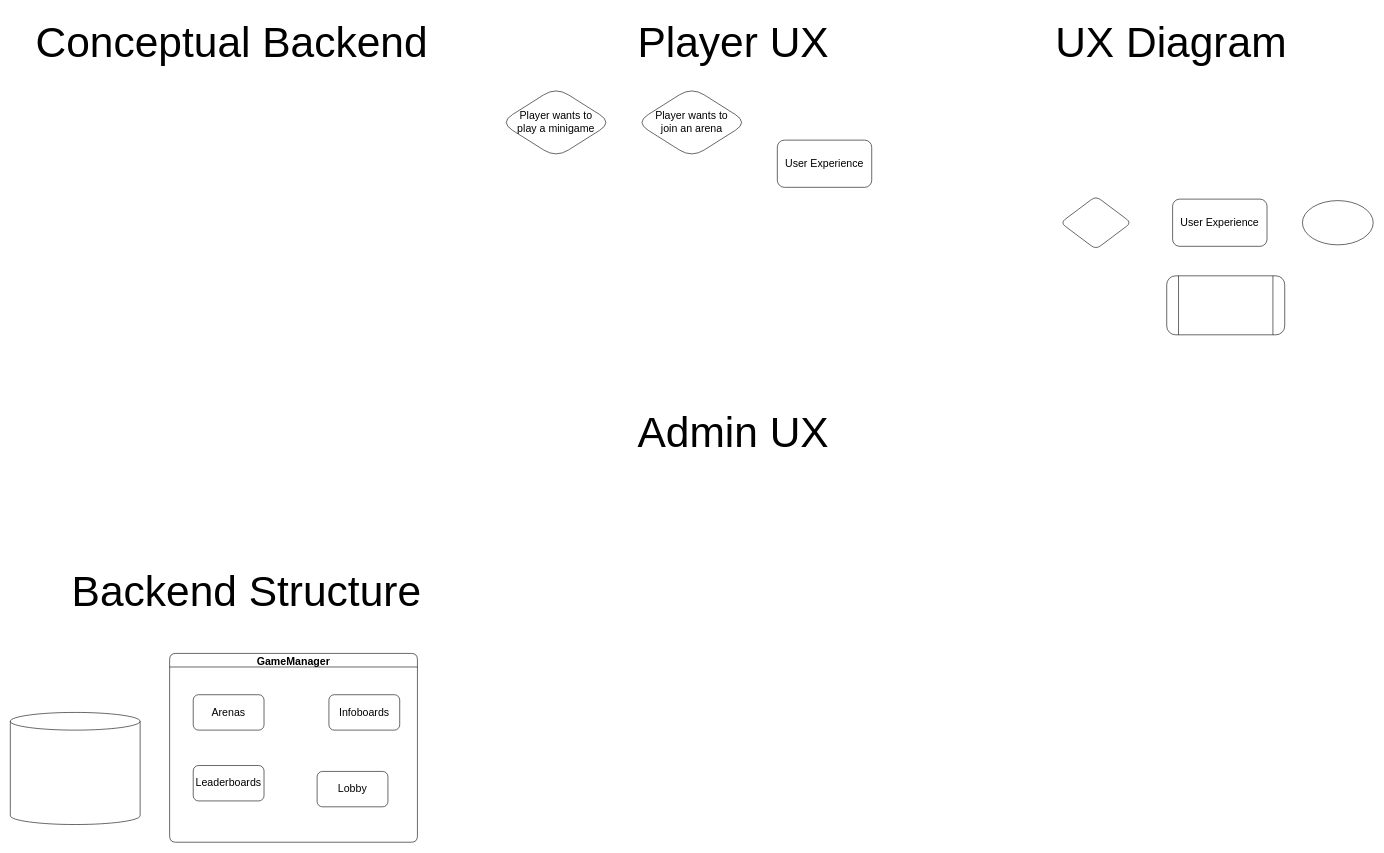
Image size: 1384x853. Some labels were removed from this diagram. Here are the shapes that lost their labels. From the top down, the centre of each, then its label:
the point at 1095,222: User Intention
the point at 1337,222: Display for User
the point at 1225,305: Complex User Experience
the point at 75,768: Storage (yml files)
